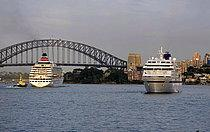Ship: (141, 46, 189, 97), (27, 50, 68, 90)
